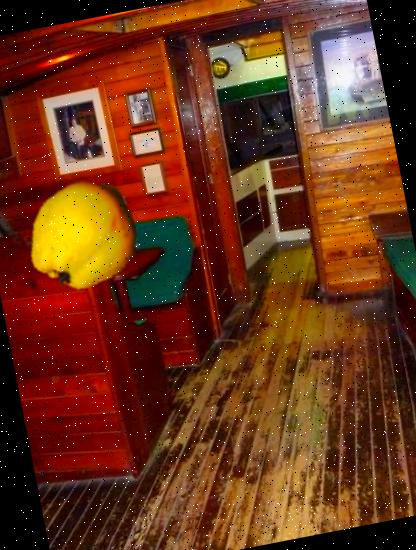Quince: (18, 166, 155, 303)
